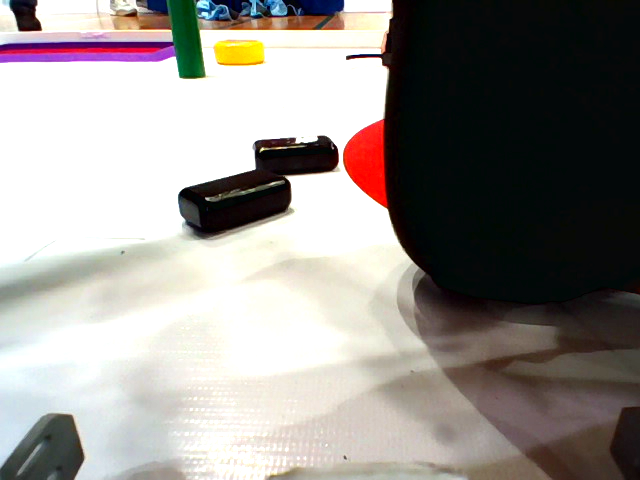black: (162, 174, 306, 253), (228, 132, 362, 190)
kuang: (1, 30, 184, 73)
yellow: (211, 38, 278, 71)
zhuzi: (162, 1, 210, 83)
